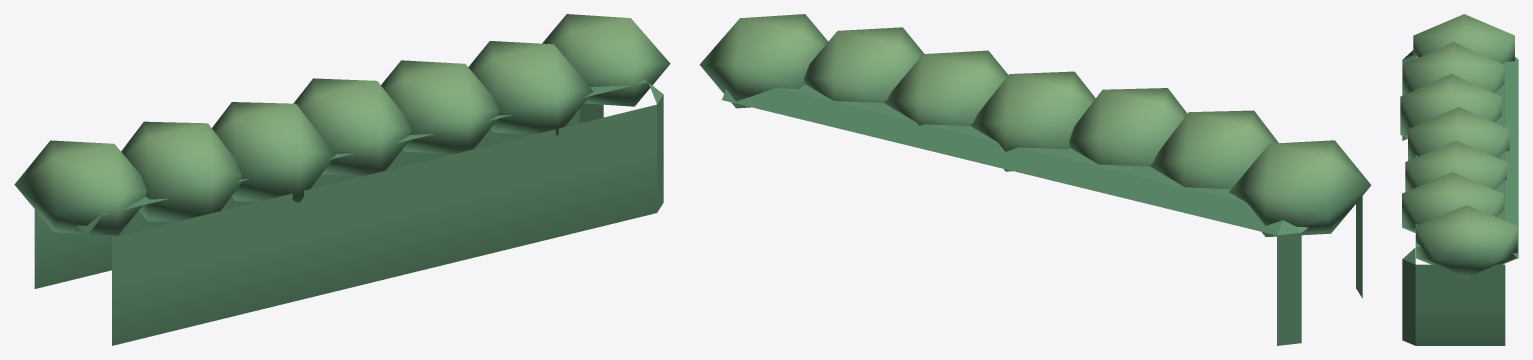
File: hedge_trim.glb
The picture shows the model from 3 angles, left to right: view 1: azimuth 30°, elevation 25°; view 2: azimuth 150°, elevation 25°; view 3: azimuth 270°, elevation 25°; orthographic projection. The views are drawn at different scales.
Parts seen in each view (by area): view 1: hedge_trim; view 2: hedge_trim; view 3: hedge_trim.
Boxes of the visible parts, x1,y1,x2,y2 form: hedge_trim: (14, 14, 670, 345); hedge_trim: (699, 14, 1371, 345); hedge_trim: (1400, 14, 1518, 345).
Size of the model in its own units: 3.21 by 0.8267 by 0.7135.
